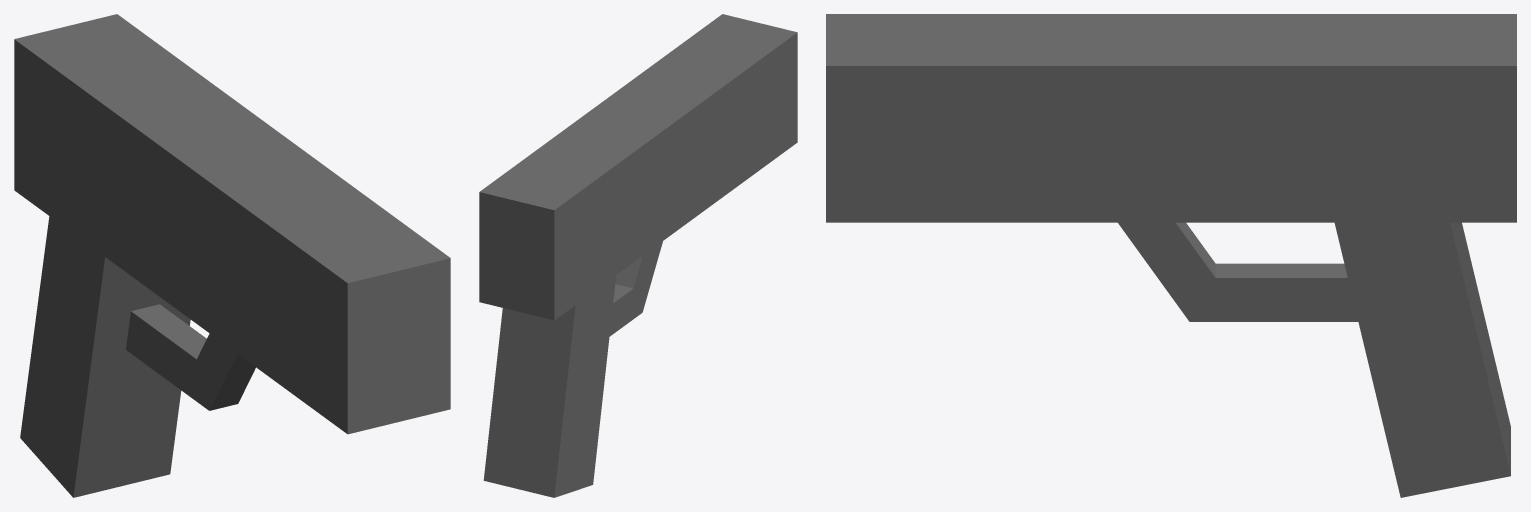
The model's file is pistol.obj.
The picture shows the model from 3 angles, left to right: view 1: azimuth 30°, elevation 25°; view 2: azimuth 150°, elevation 25°; view 3: azimuth 270°, elevation 25°; orthographic projection. The views are drawn at different scales.
Parts seen in each view (by area): view 1: 立方体.001; view 2: 立方体.001; view 3: 立方体.001.
Part boxes in pixels (x1=…): 立方体.001: x1=14, y1=14, x2=450, y2=497; 立方体.001: x1=479, y1=14, x2=797, y2=497; 立方体.001: x1=826, y1=14, x2=1516, y2=497.
Bounding box in the file's own units: 0.112 × 0.4348 × 0.6281.
Materials: 1 (1 with a texture image).
